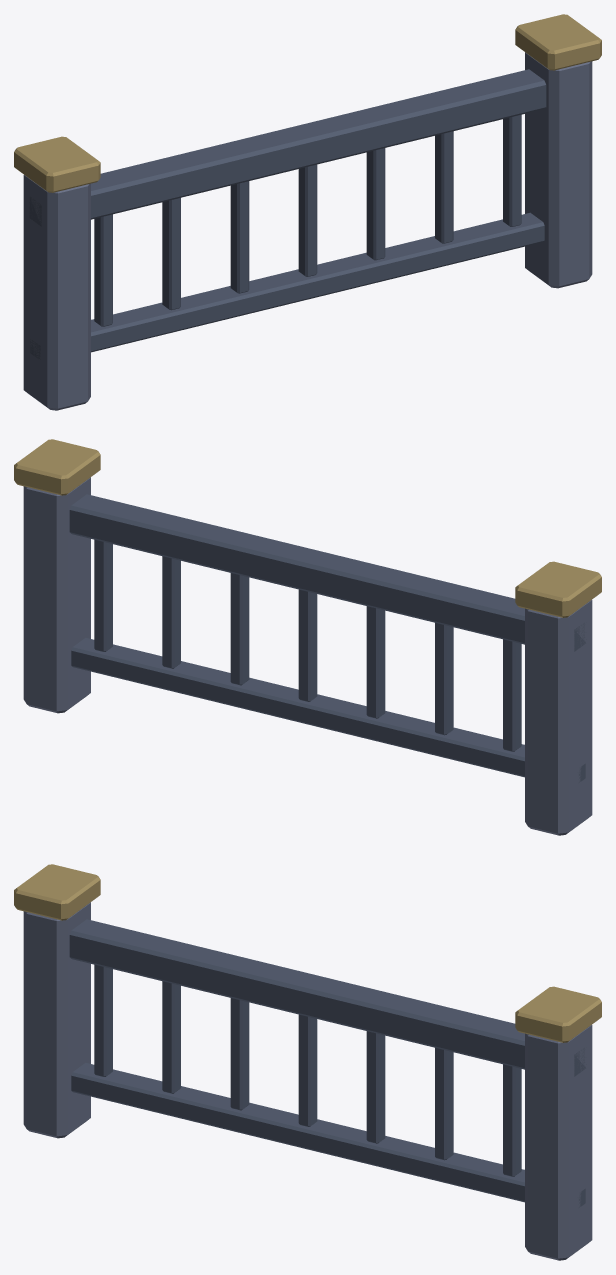
Rendered from railing-straight.glb.
The picture shows the model from 3 angles, top to bottom: view 1: azimuth 30°, elevation 25°; view 2: azimuth 150°, elevation 25°; view 3: azimuth 330°, elevation 25°; orthographic projection.
Parts seen in each view (by area): view 1: railing-straight__body; view 2: railing-straight__body; view 3: railing-straight__body.
Part boxes in pixels (left/top/right/bottom): railing-straight__body: left=14, top=14, right=601, bottom=410; railing-straight__body: left=14, top=439, right=601, bottom=835; railing-straight__body: left=14, top=864, right=601, bottom=1260.
Size of the model in its own units: 2.04 by 0.85 by 0.24.
